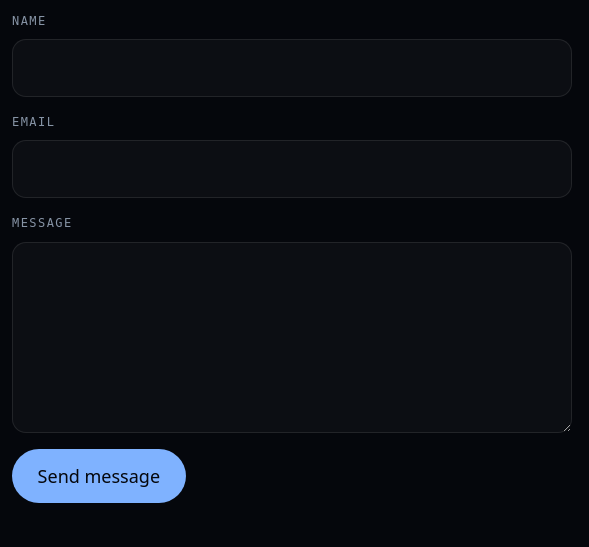
it: ContactForm › rejects an invalid email
Type "Ada" into the field labelled "Name" at (292,68), box top-left (12, 39), bottom-right (572, 97)
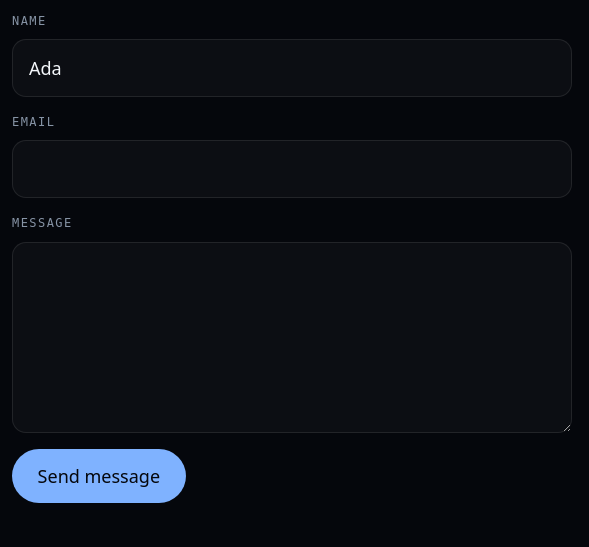
Type "bad" into the field labelled "Email" at (292,169), box top-left (12, 140), bottom-right (572, 198)
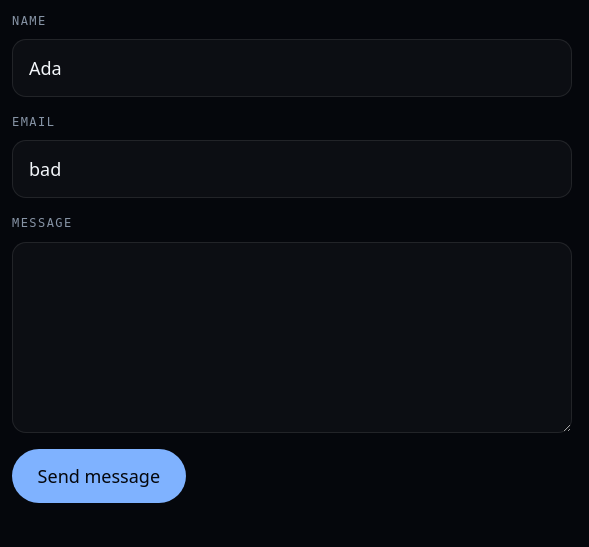
Type "A sufficiently long message here." into the text box labelled "Message" at (292,337), box top-left (12, 242), bottom-right (572, 433)
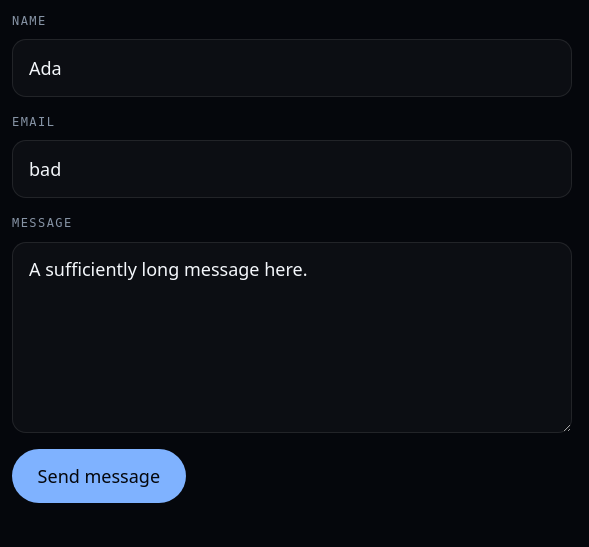
Click the button "Send message" at (99,476), box top-left (12, 449), bottom-right (186, 503)
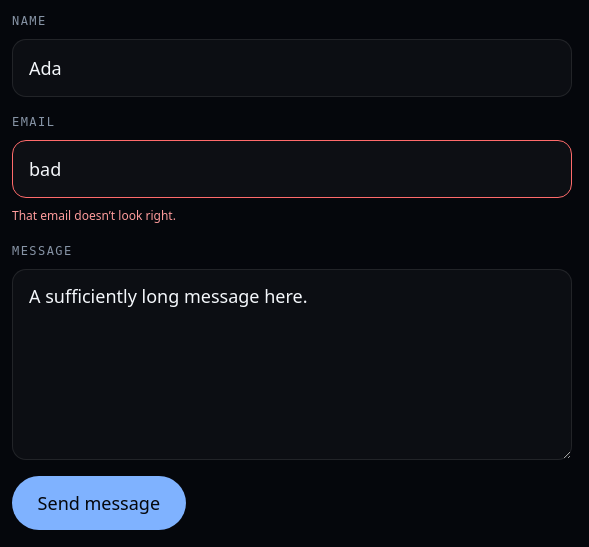
Expected: the text "That email doesn’t look right." is shown, top-left (12, 207), bottom-right (176, 224)
